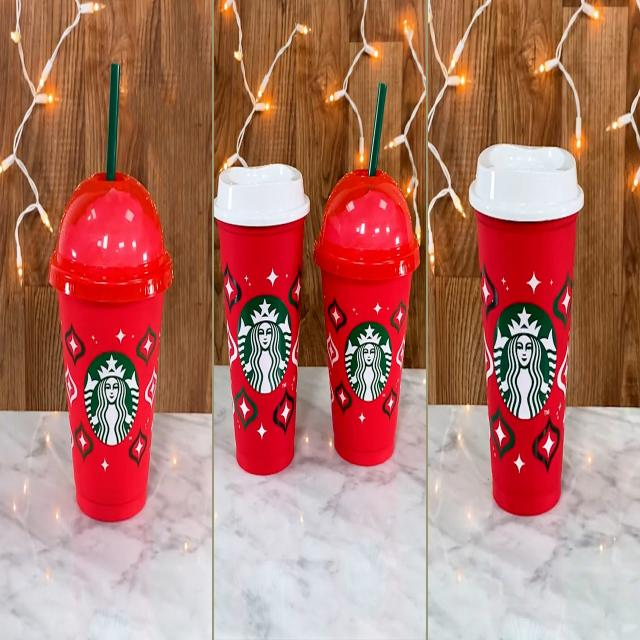starbucks: (491, 298, 558, 416), (83, 347, 139, 448), (238, 293, 292, 393), (343, 318, 392, 401)
